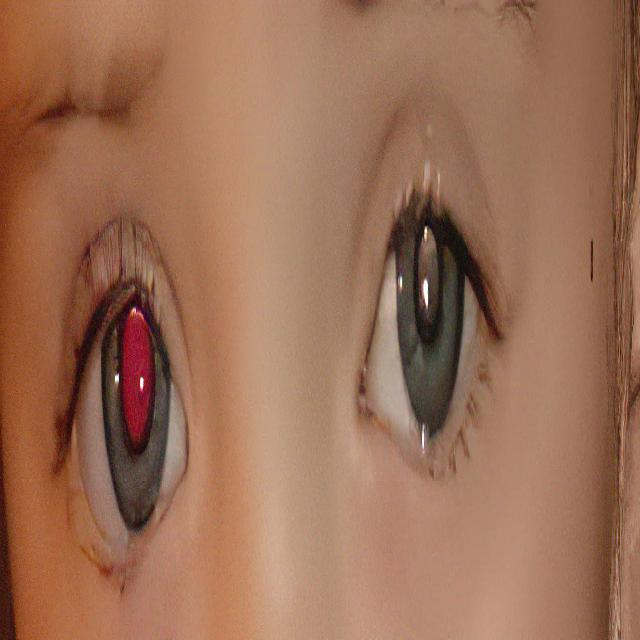reflexo-alterado: (340, 98, 496, 574)
reflexo-normal: (43, 248, 203, 600)
